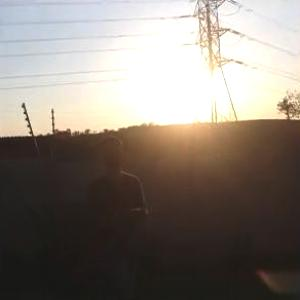follow: (79, 129, 152, 299)
